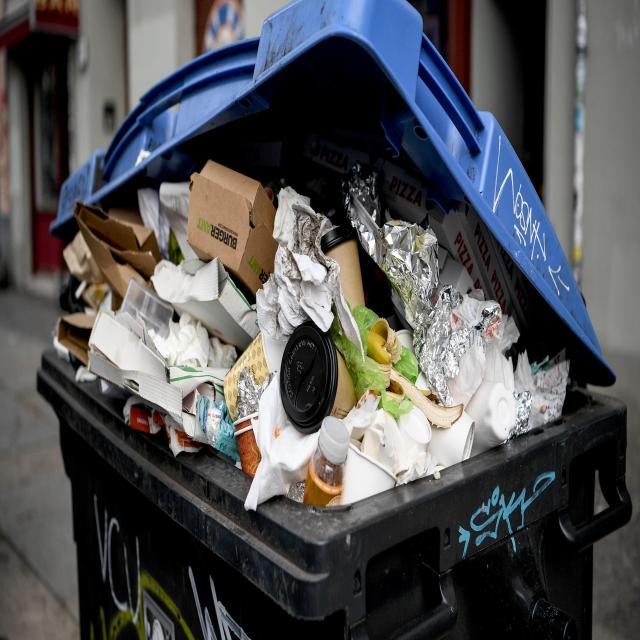garbage: (51, 76, 612, 516)
